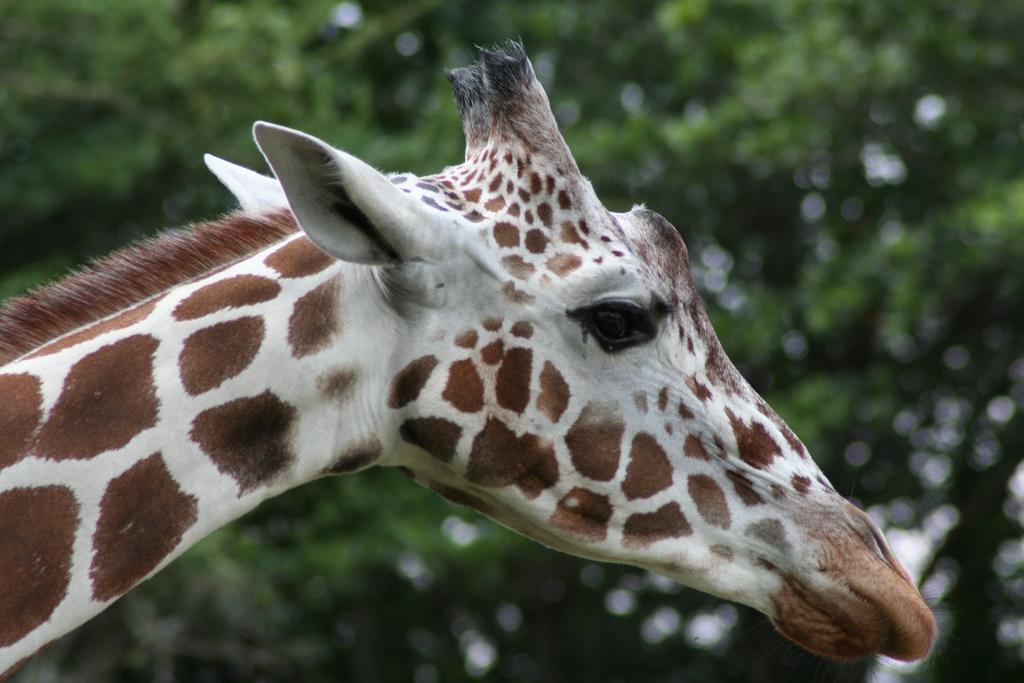giraffe: (60, 39, 941, 644)
